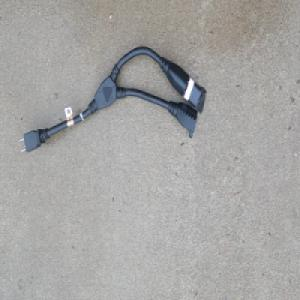Wire: (18, 44, 207, 154)
